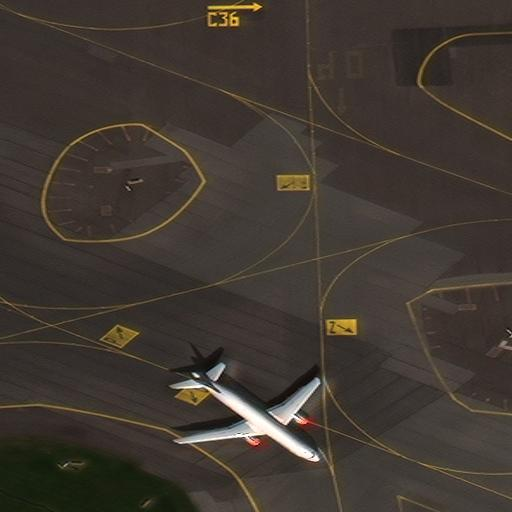Medium Civil Transport: (178, 369, 320, 463)
